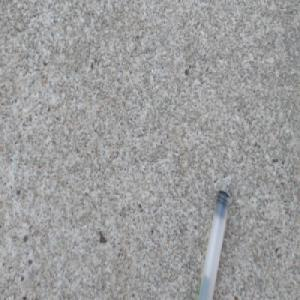Pen: (196, 187, 231, 300)
